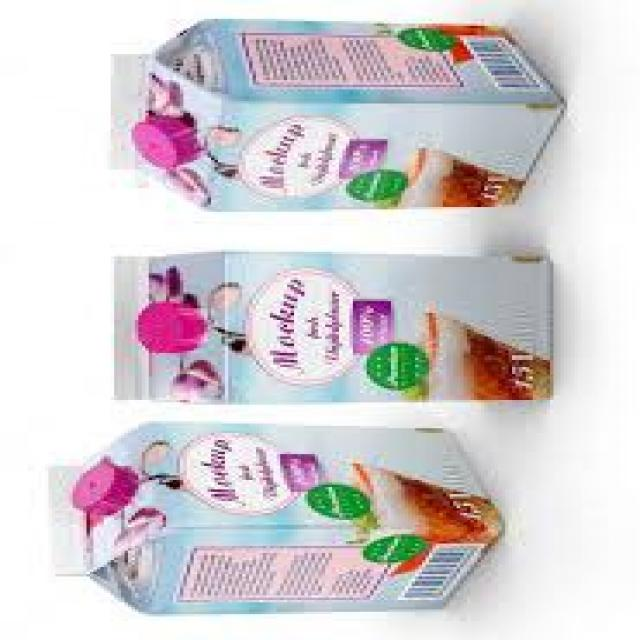non_white_jug: (41, 418, 513, 619), (103, 15, 572, 215), (101, 248, 560, 409)
